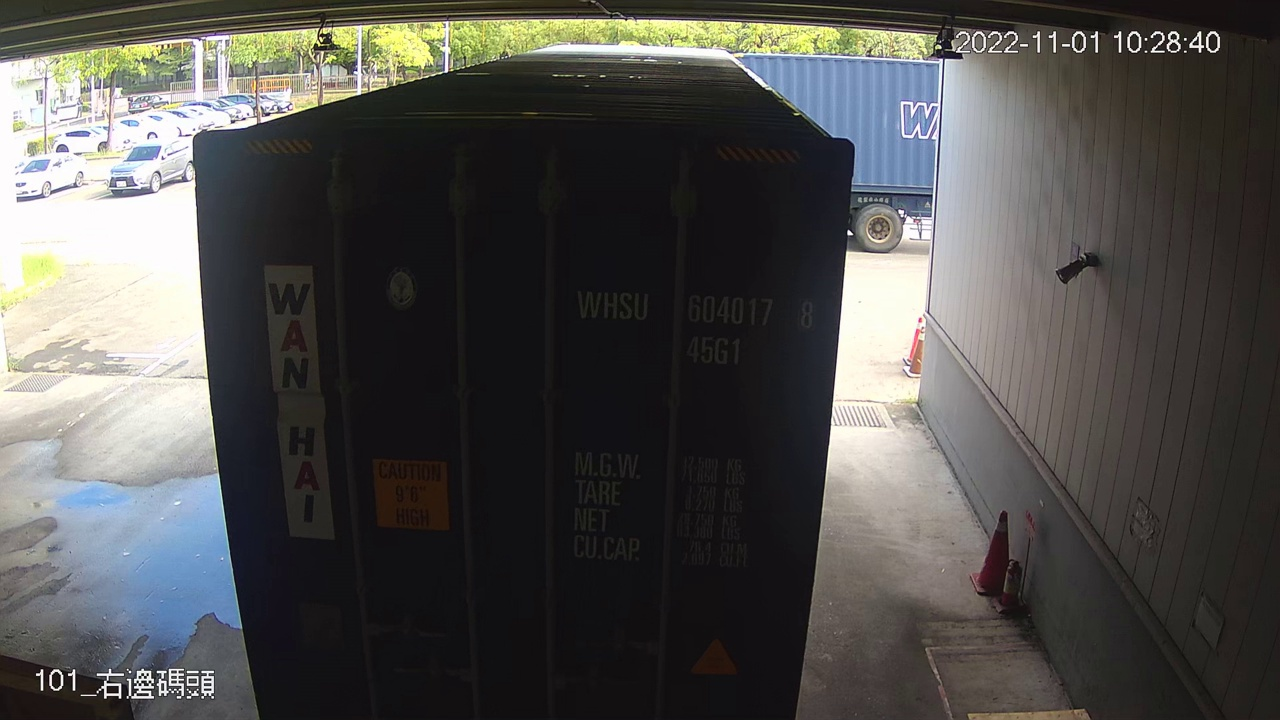container: (565, 275, 824, 372)
